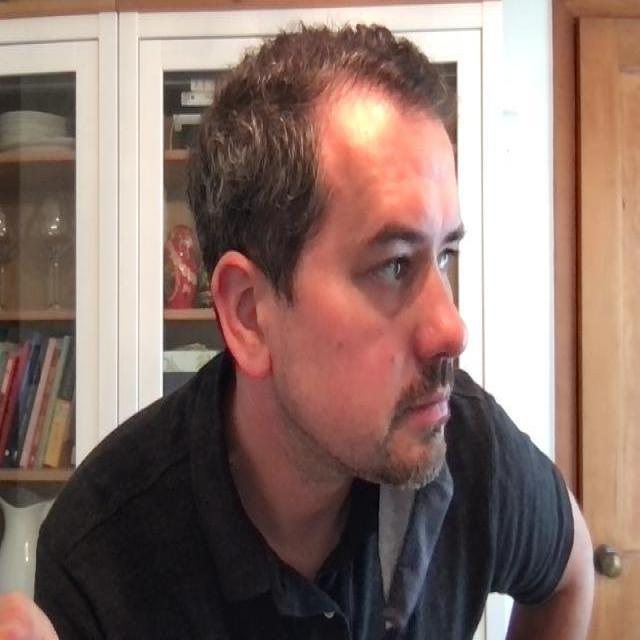face: (190, 25, 468, 488)
